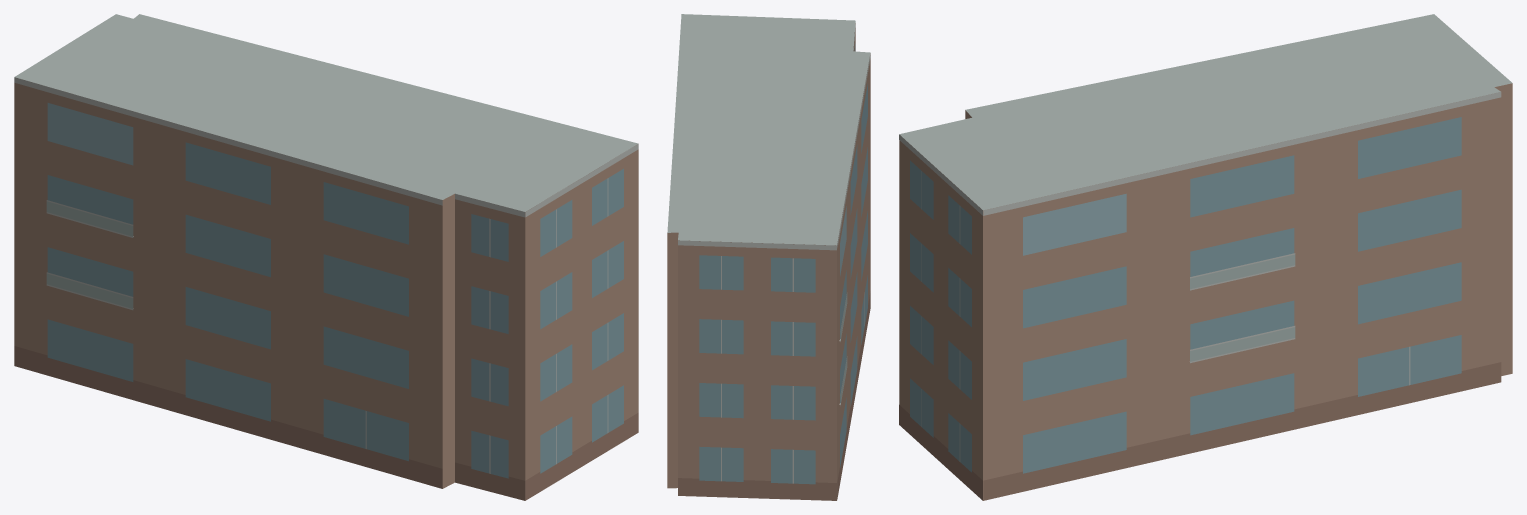
File: survey-upis-32641290.glb
The picture shows the model from 3 angles, left to right: view 1: azimuth 30°, elevation 25°; view 2: azimuth 150°, elevation 25°; view 3: azimuth 270°, elevation 25°; orthographic projection. The views are drawn at different scales.
Visible parts, largest first — view 1: survey-upis-32641290.tmp; view 2: survey-upis-32641290.tmp; view 3: survey-upis-32641290.tmp.
Part boxes in pixels (x1,y1,x2,y2): survey-upis-32641290.tmp: [14, 14, 638, 500]; survey-upis-32641290.tmp: [667, 14, 870, 500]; survey-upis-32641290.tmp: [899, 14, 1512, 500].
Bounding box in the file's own units: 18.42 × 12.7 × 24.32.
